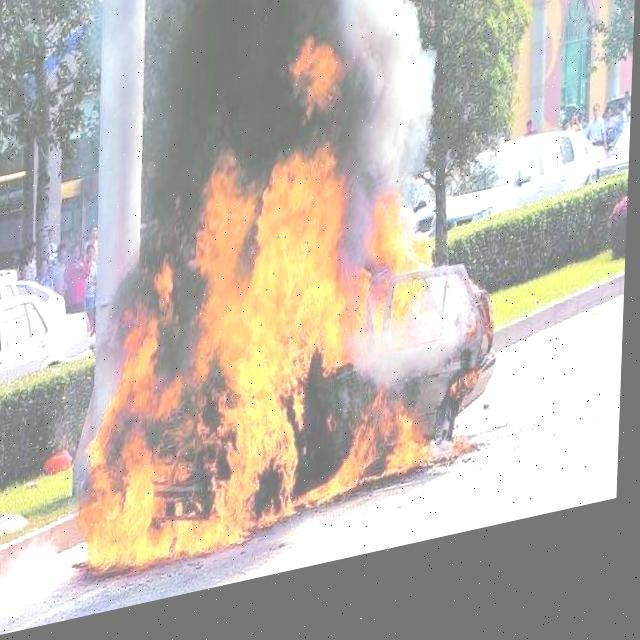Fire: (78, 14, 504, 590)
